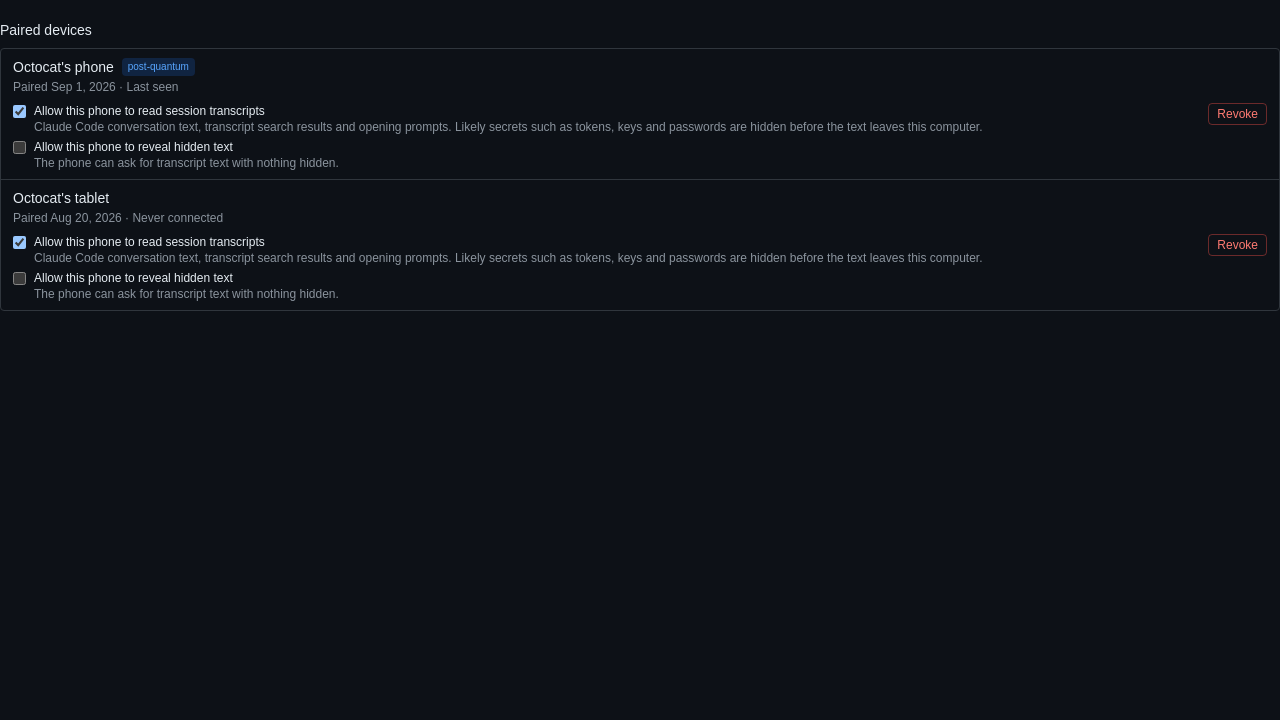
PairedDevicesList › revoke › keeps the dialog open and shows the reason when revoking fails
Click the button with aria-label "Revoke Octocat's phone" at (1238, 114), box [1208,103,1267,125]
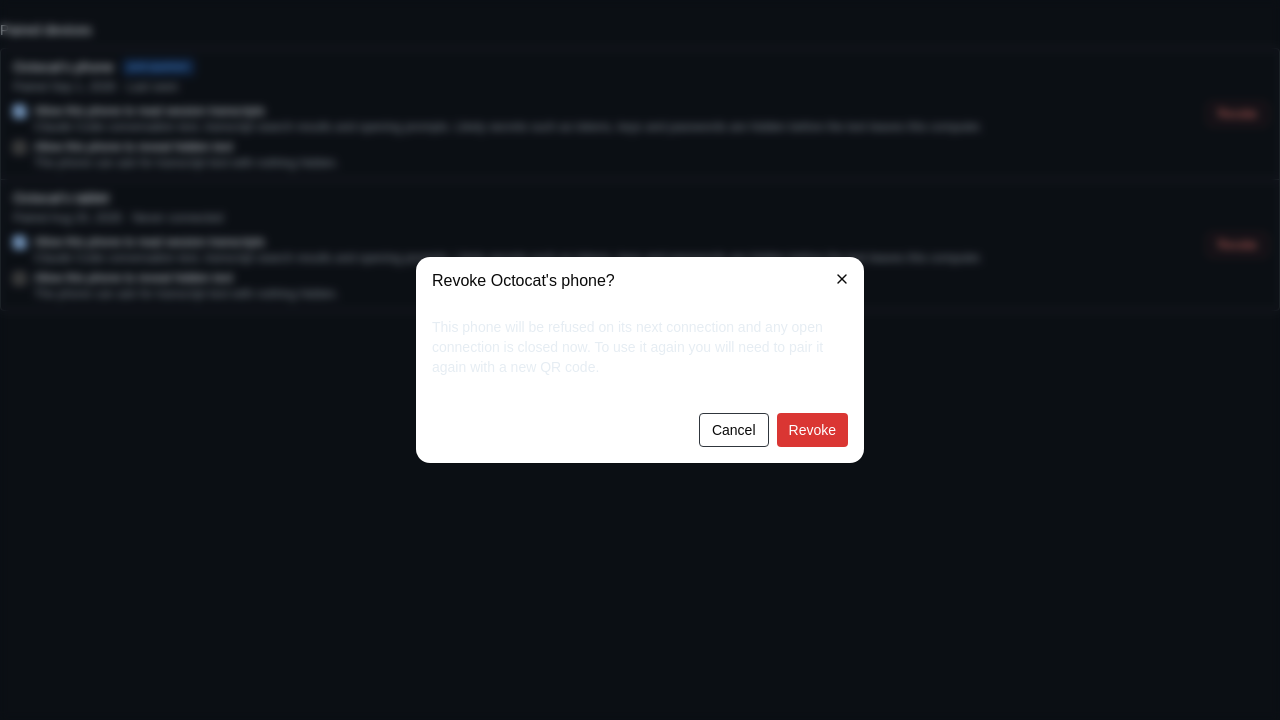
Click the button "Revoke" at (812, 430), box [776,413,848,447]
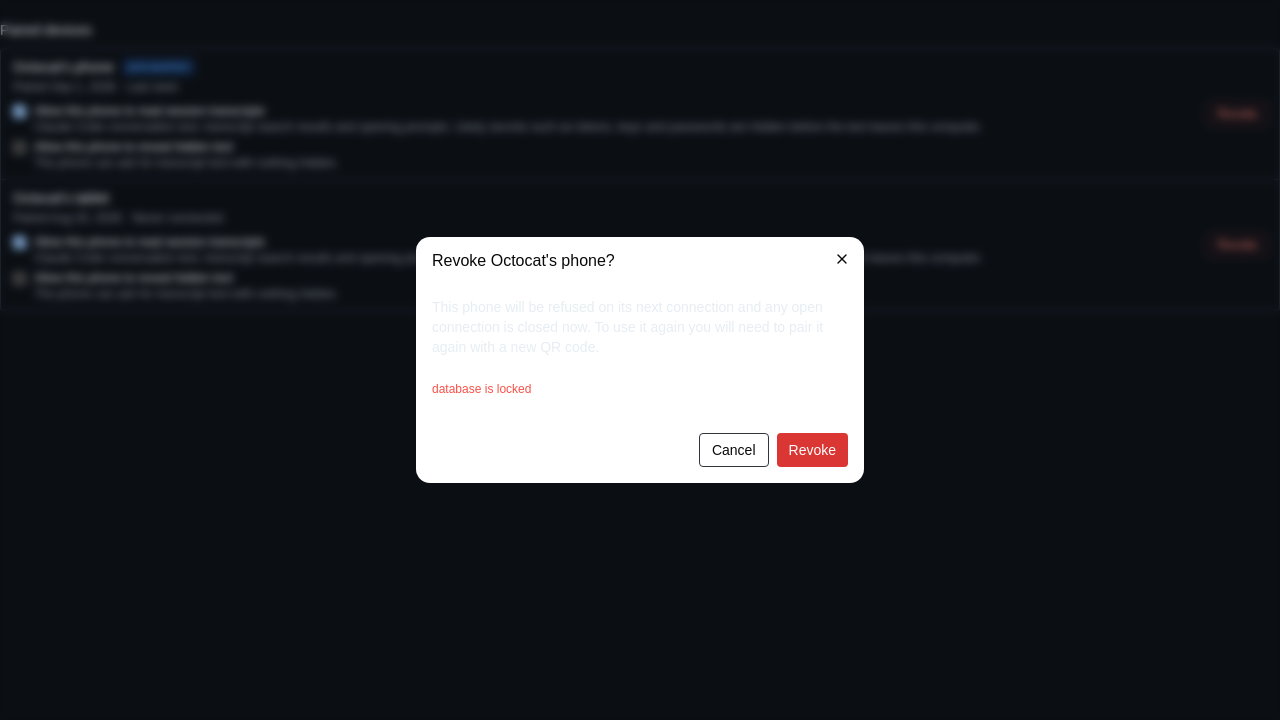
Now the dialog is shown, box [416,237,864,483]
Now the message reads "database is locked", box [432,382,531,396]
